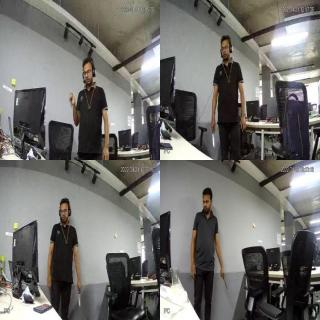knife: (209, 128, 215, 148), (76, 288, 82, 308), (222, 274, 228, 292), (69, 94, 74, 114)
